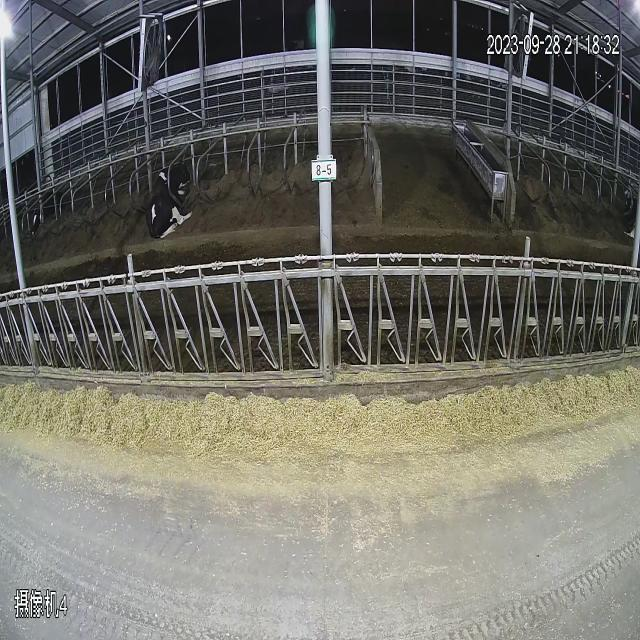feeding: (19, 146, 67, 259)
lying down: (127, 138, 230, 270)
